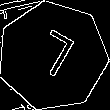L_SW: (27, 26, 80, 86)
